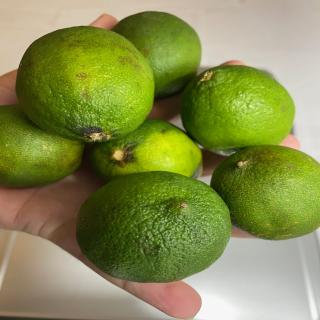Chilli: (75, 170, 232, 283)
Lemon: (15, 25, 155, 143), (210, 144, 320, 241), (180, 65, 296, 156), (110, 10, 202, 99), (90, 118, 204, 183), (0, 104, 85, 188)
